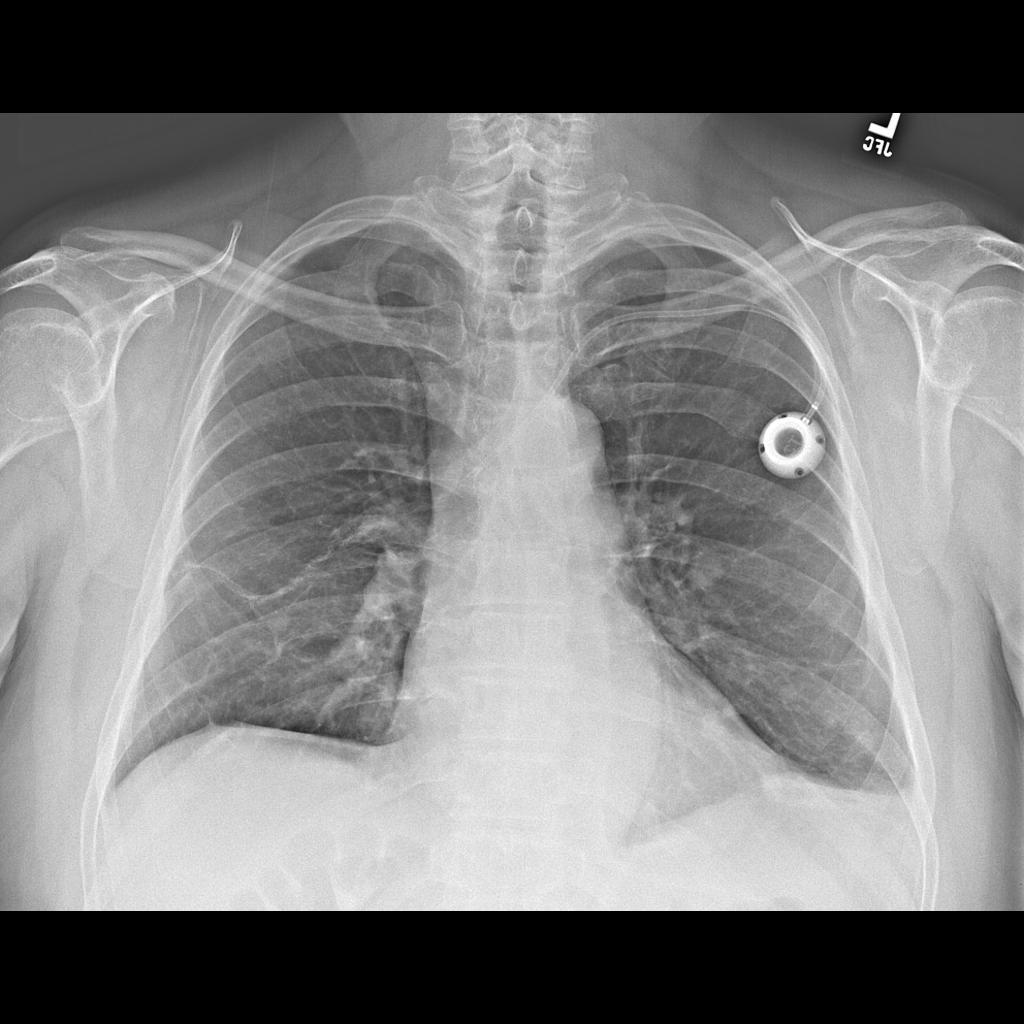Nodule: (319, 632, 385, 690), (687, 543, 729, 594)
